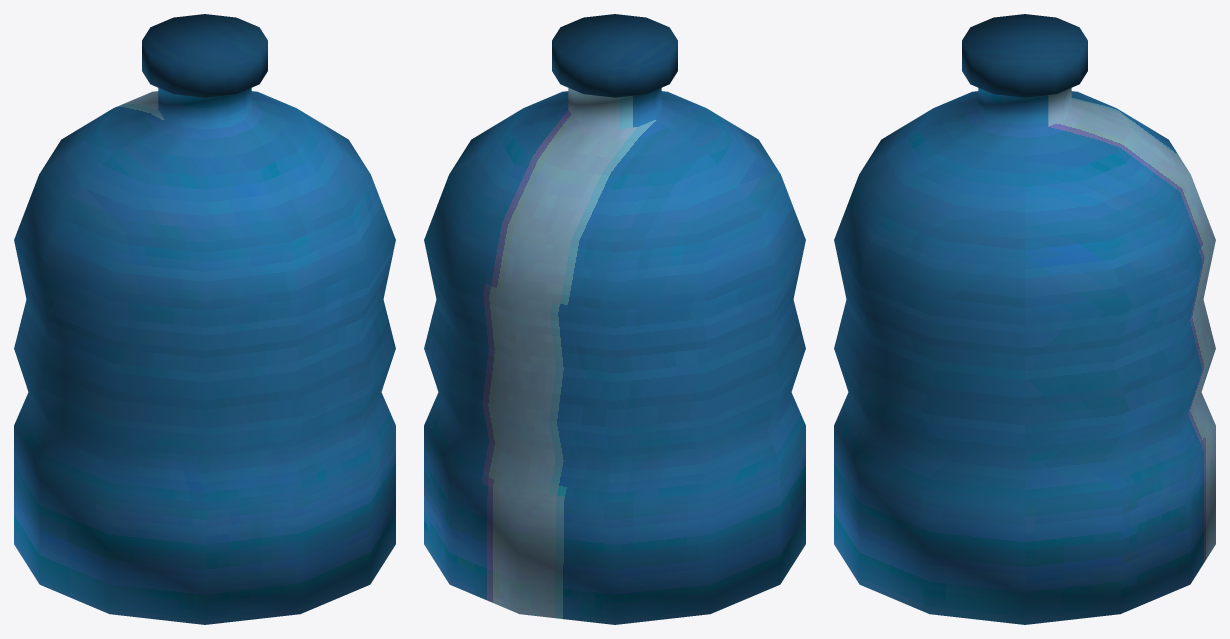
Rendered from bottle.fbx.
The picture shows the model from 3 angles, left to right: view 1: azimuth 30°, elevation 25°; view 2: azimuth 150°, elevation 25°; view 3: azimuth 270°, elevation 25°; orthographic projection.
Visible parts, largest first — view 1: garrafa.001; view 2: garrafa.001; view 3: garrafa.001.
Boxes of the visible parts, x1,y1,x2,y2 form: garrafa.001: (14,14,395,624); garrafa.001: (424,14,805,624); garrafa.001: (834,14,1215,624).
Bounding box in the file's own units: 112 × 162 × 112.
1 material, 1 textured.
